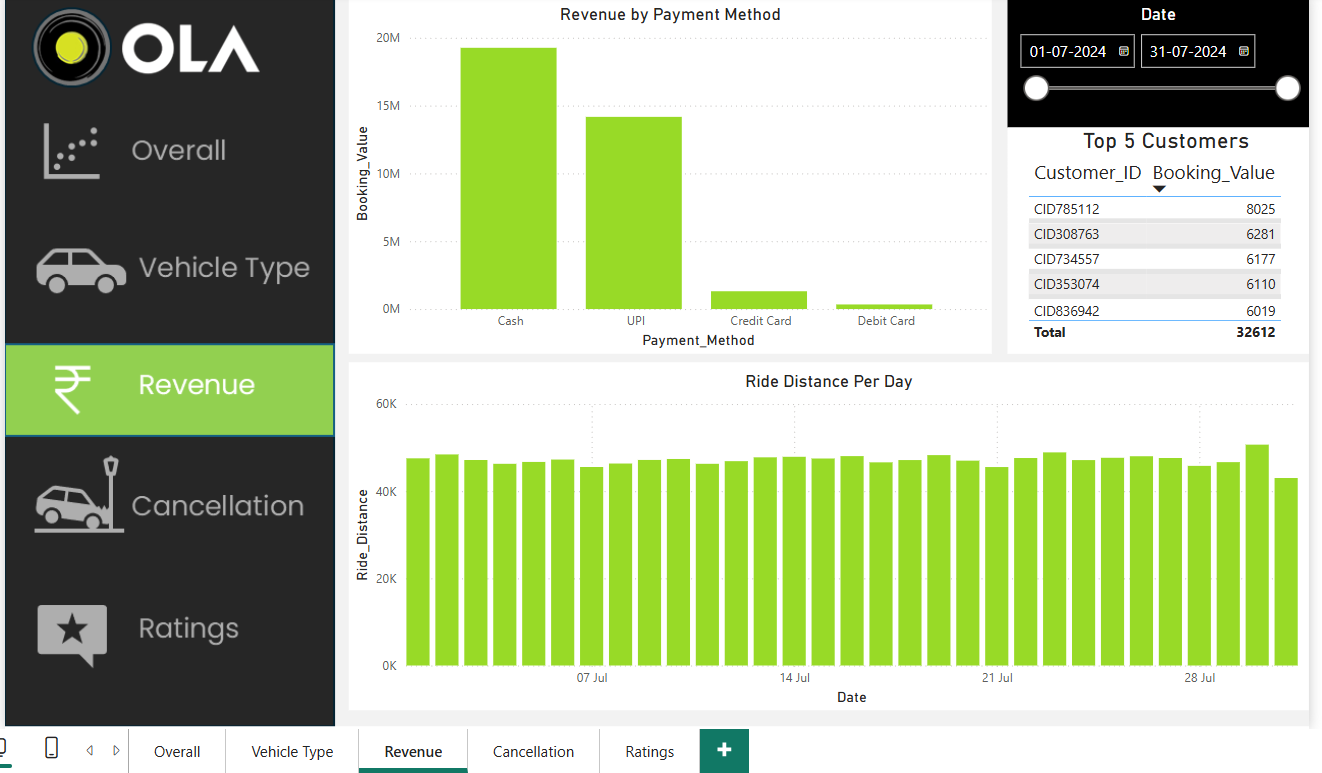

The page's visual inventory and layout, read from the dashboard file:
{"tool":"powerbi","page":{"name":"Revenue","canvas":[1280,720],"ordinal":2},"visuals":[{"type":"actionButton","box":[0,222.3,322.5,91.9],"z":0},{"type":"actionButton","box":[0,108.4,322.5,91.9],"z":1000},{"type":"actionButton","box":[0,338.9,322.5,91.9],"z":2000},{"type":"actionButton","box":[0,447.3,322.5,91.9],"z":3000},{"type":"actionButton","box":[0,576.3,322.5,91.9],"z":4000},{"type":"columnChart","title":"Revenue by Payment Method","fields":{"Y":["Sum(July (2).Booking_Value)"],"Category":["July (2).Payment_Method"]},"box":[337.6,0,631.2,351.3],"z":5000},{"type":"columnChart","title":"Ride Distance Per Day","fields":{"Y":["Sum(July (2).Ride_Distance)"],"Category":["July (2).Date"]},"box":[337.6,359.5,942.7,341.7],"z":6000},{"type":"tableEx","title":"Top 5 Customers","fields":{"Values":["July (2).Customer_ID","Sum(July (2).Booking_Value)"]},"box":[983.9,129,296.4,222.3],"z":7000},{"type":"slicer","title":"Date","fields":{"Values":["July (2).Date"]},"box":[983.9,0,296.4,129],"z":8000}]}

Visuals, with their boxes on the page's 1280x720 design canvas (x1, y1, x2, y2). These are canvas units, not pixel positions in the 1322x773 screenshot, which may show the page scaled, cropped or inside an application window:
actionButton: select_region(0, 222, 322, 314)
actionButton: select_region(0, 108, 322, 200)
actionButton: select_region(0, 339, 322, 431)
actionButton: select_region(0, 447, 322, 539)
actionButton: select_region(0, 576, 322, 668)
"Revenue by Payment Method" columnChart: select_region(338, 0, 969, 351)
"Ride Distance Per Day" columnChart: select_region(338, 360, 1280, 701)
"Top 5 Customers" tableEx: select_region(984, 129, 1280, 351)
"Date" slicer: select_region(984, 0, 1280, 129)
